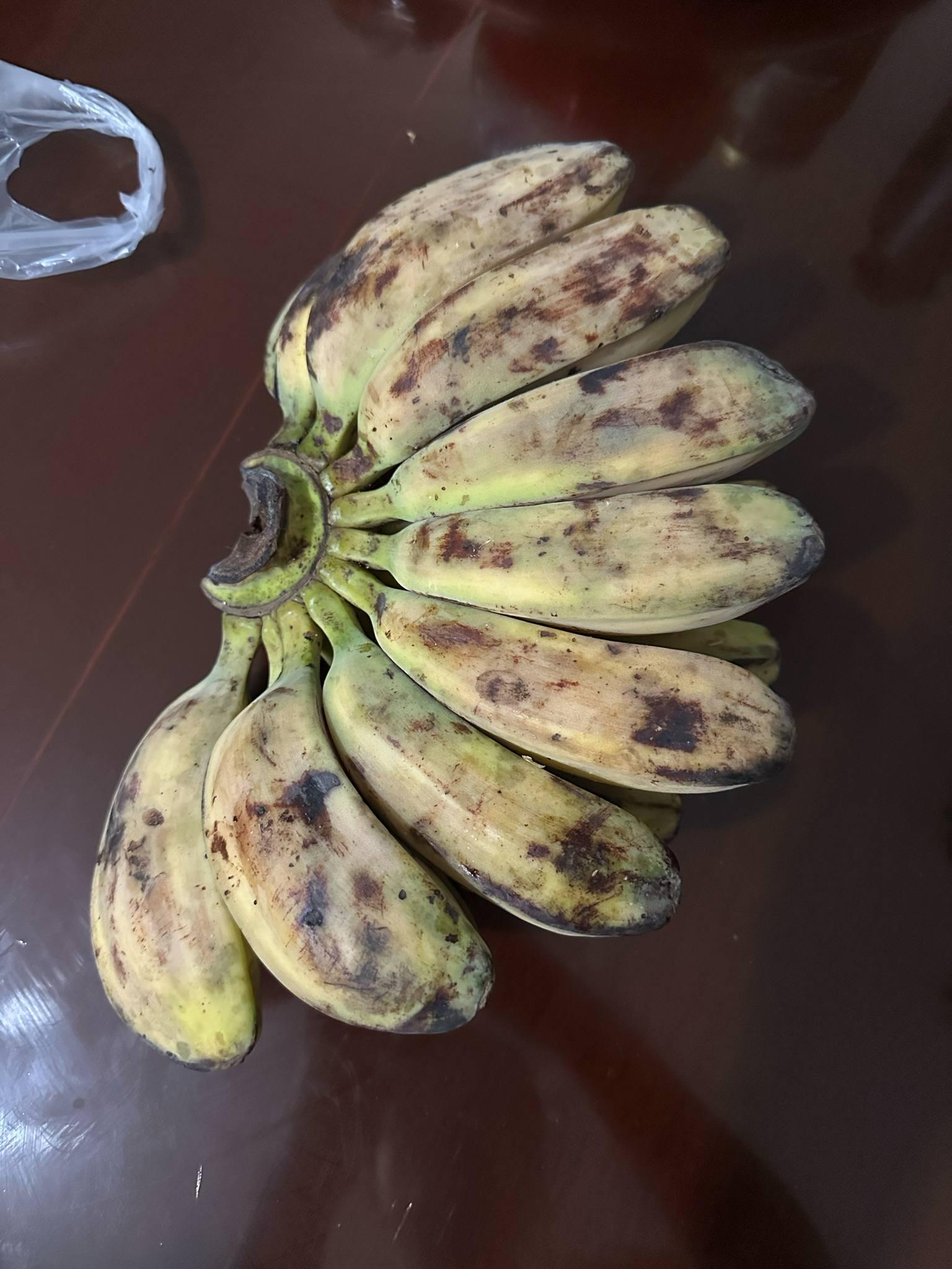underripe: (92, 144, 823, 1068)
